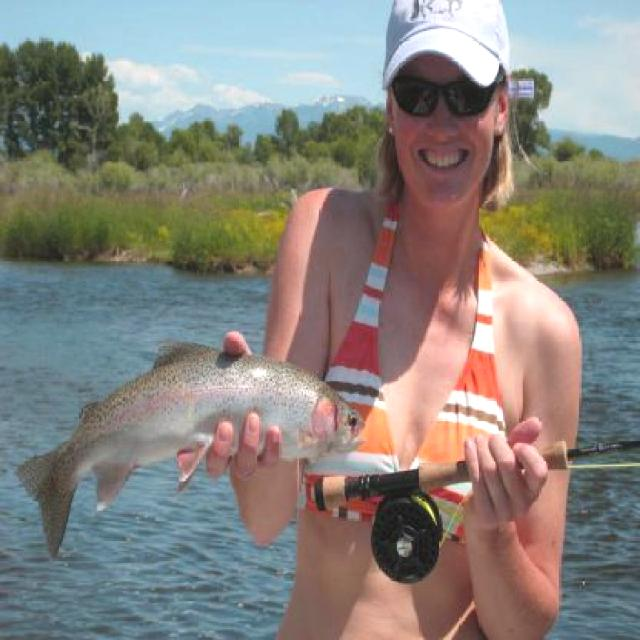face_nomask: (384, 73, 502, 181)
glasses: (386, 74, 506, 117)
hand_noglove: (174, 334, 288, 486), (449, 411, 558, 529)
person: (243, 0, 589, 640)
